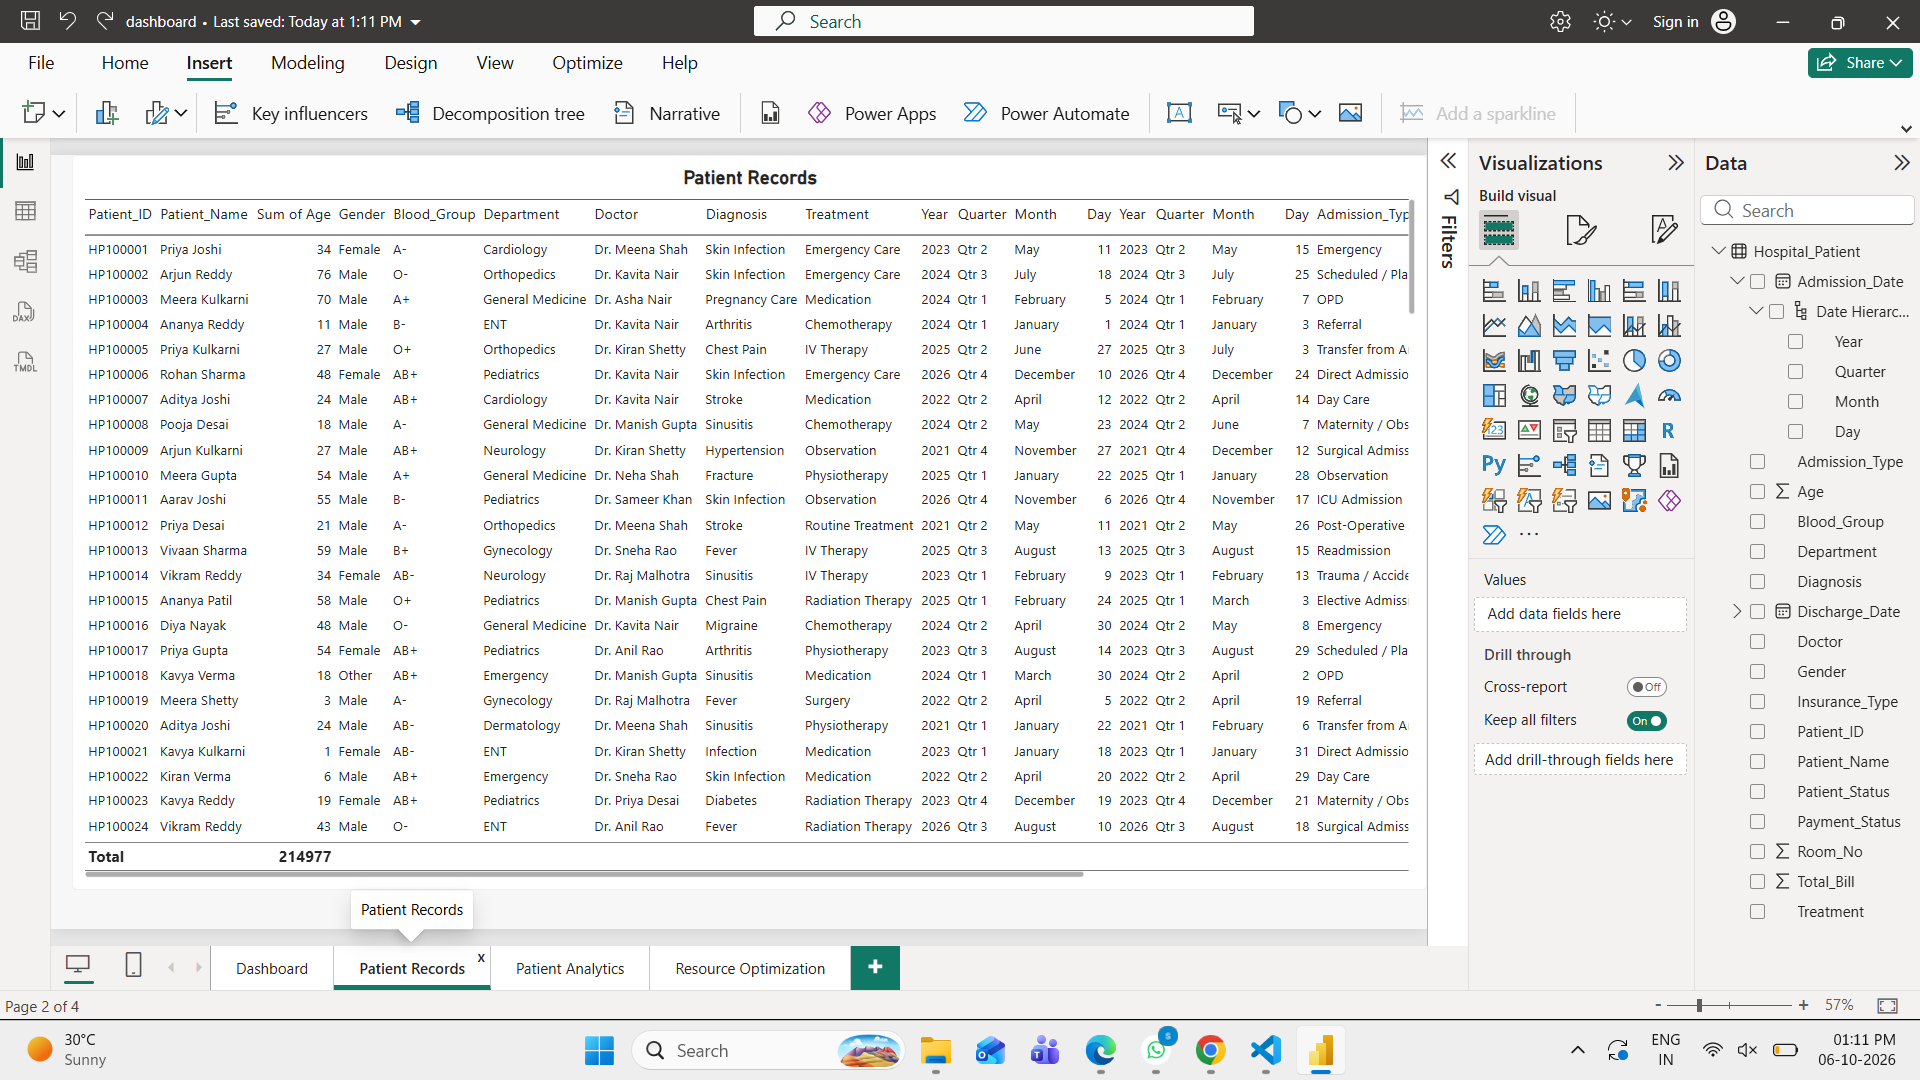

What the dashboard file says about the page in this screenshot:
{"tool":"powerbi","page":{"name":"Patient Records","canvas":[1920,1080],"ordinal":1},"visuals":[{"type":"tableEx","title":"Patient Records","fields":{"Values":["Hospital_Patient.Patient_ID","Hospital_Patient.Patient_Name","Sum(Hospital_Patient.Age)","Hospital_Patient.Gender","Hospital_Patient.Blood_Group","Hospital_Patient.Department","Hospital_Patient.Doctor","Hospital_Patient.Diagnosis","Hospital_Patient.Treatment","Hospital_Patient.Admission_Date.Variation.Date Hierarchy.Year","Hospital_Patient.Admission_Date.Variation.Date Hierarchy.Quarter","Hospital_Patient.Admission_Date.Variation.Date Hierarchy.Month"]},"box":[29.7,0,1890.7,1025.6],"z":0}]}

Visuals, with their boxes on the page's 1920x1080 design canvas (x1, y1, x2, y2). These are canvas units, not pixel positions in the 1920x1080 screenshot, which may show the page scaled, cropped or inside an application window:
"Patient Records" tableEx: crop(30, 0, 1920, 1026)
